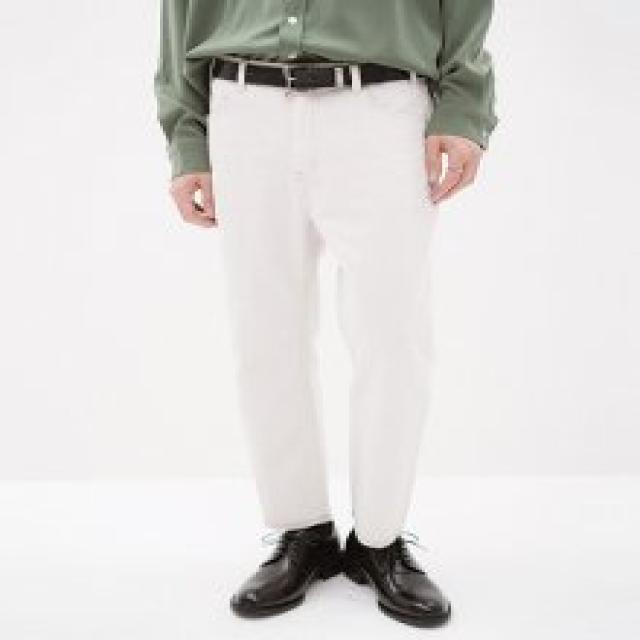long-pants: (192, 57, 438, 550)
